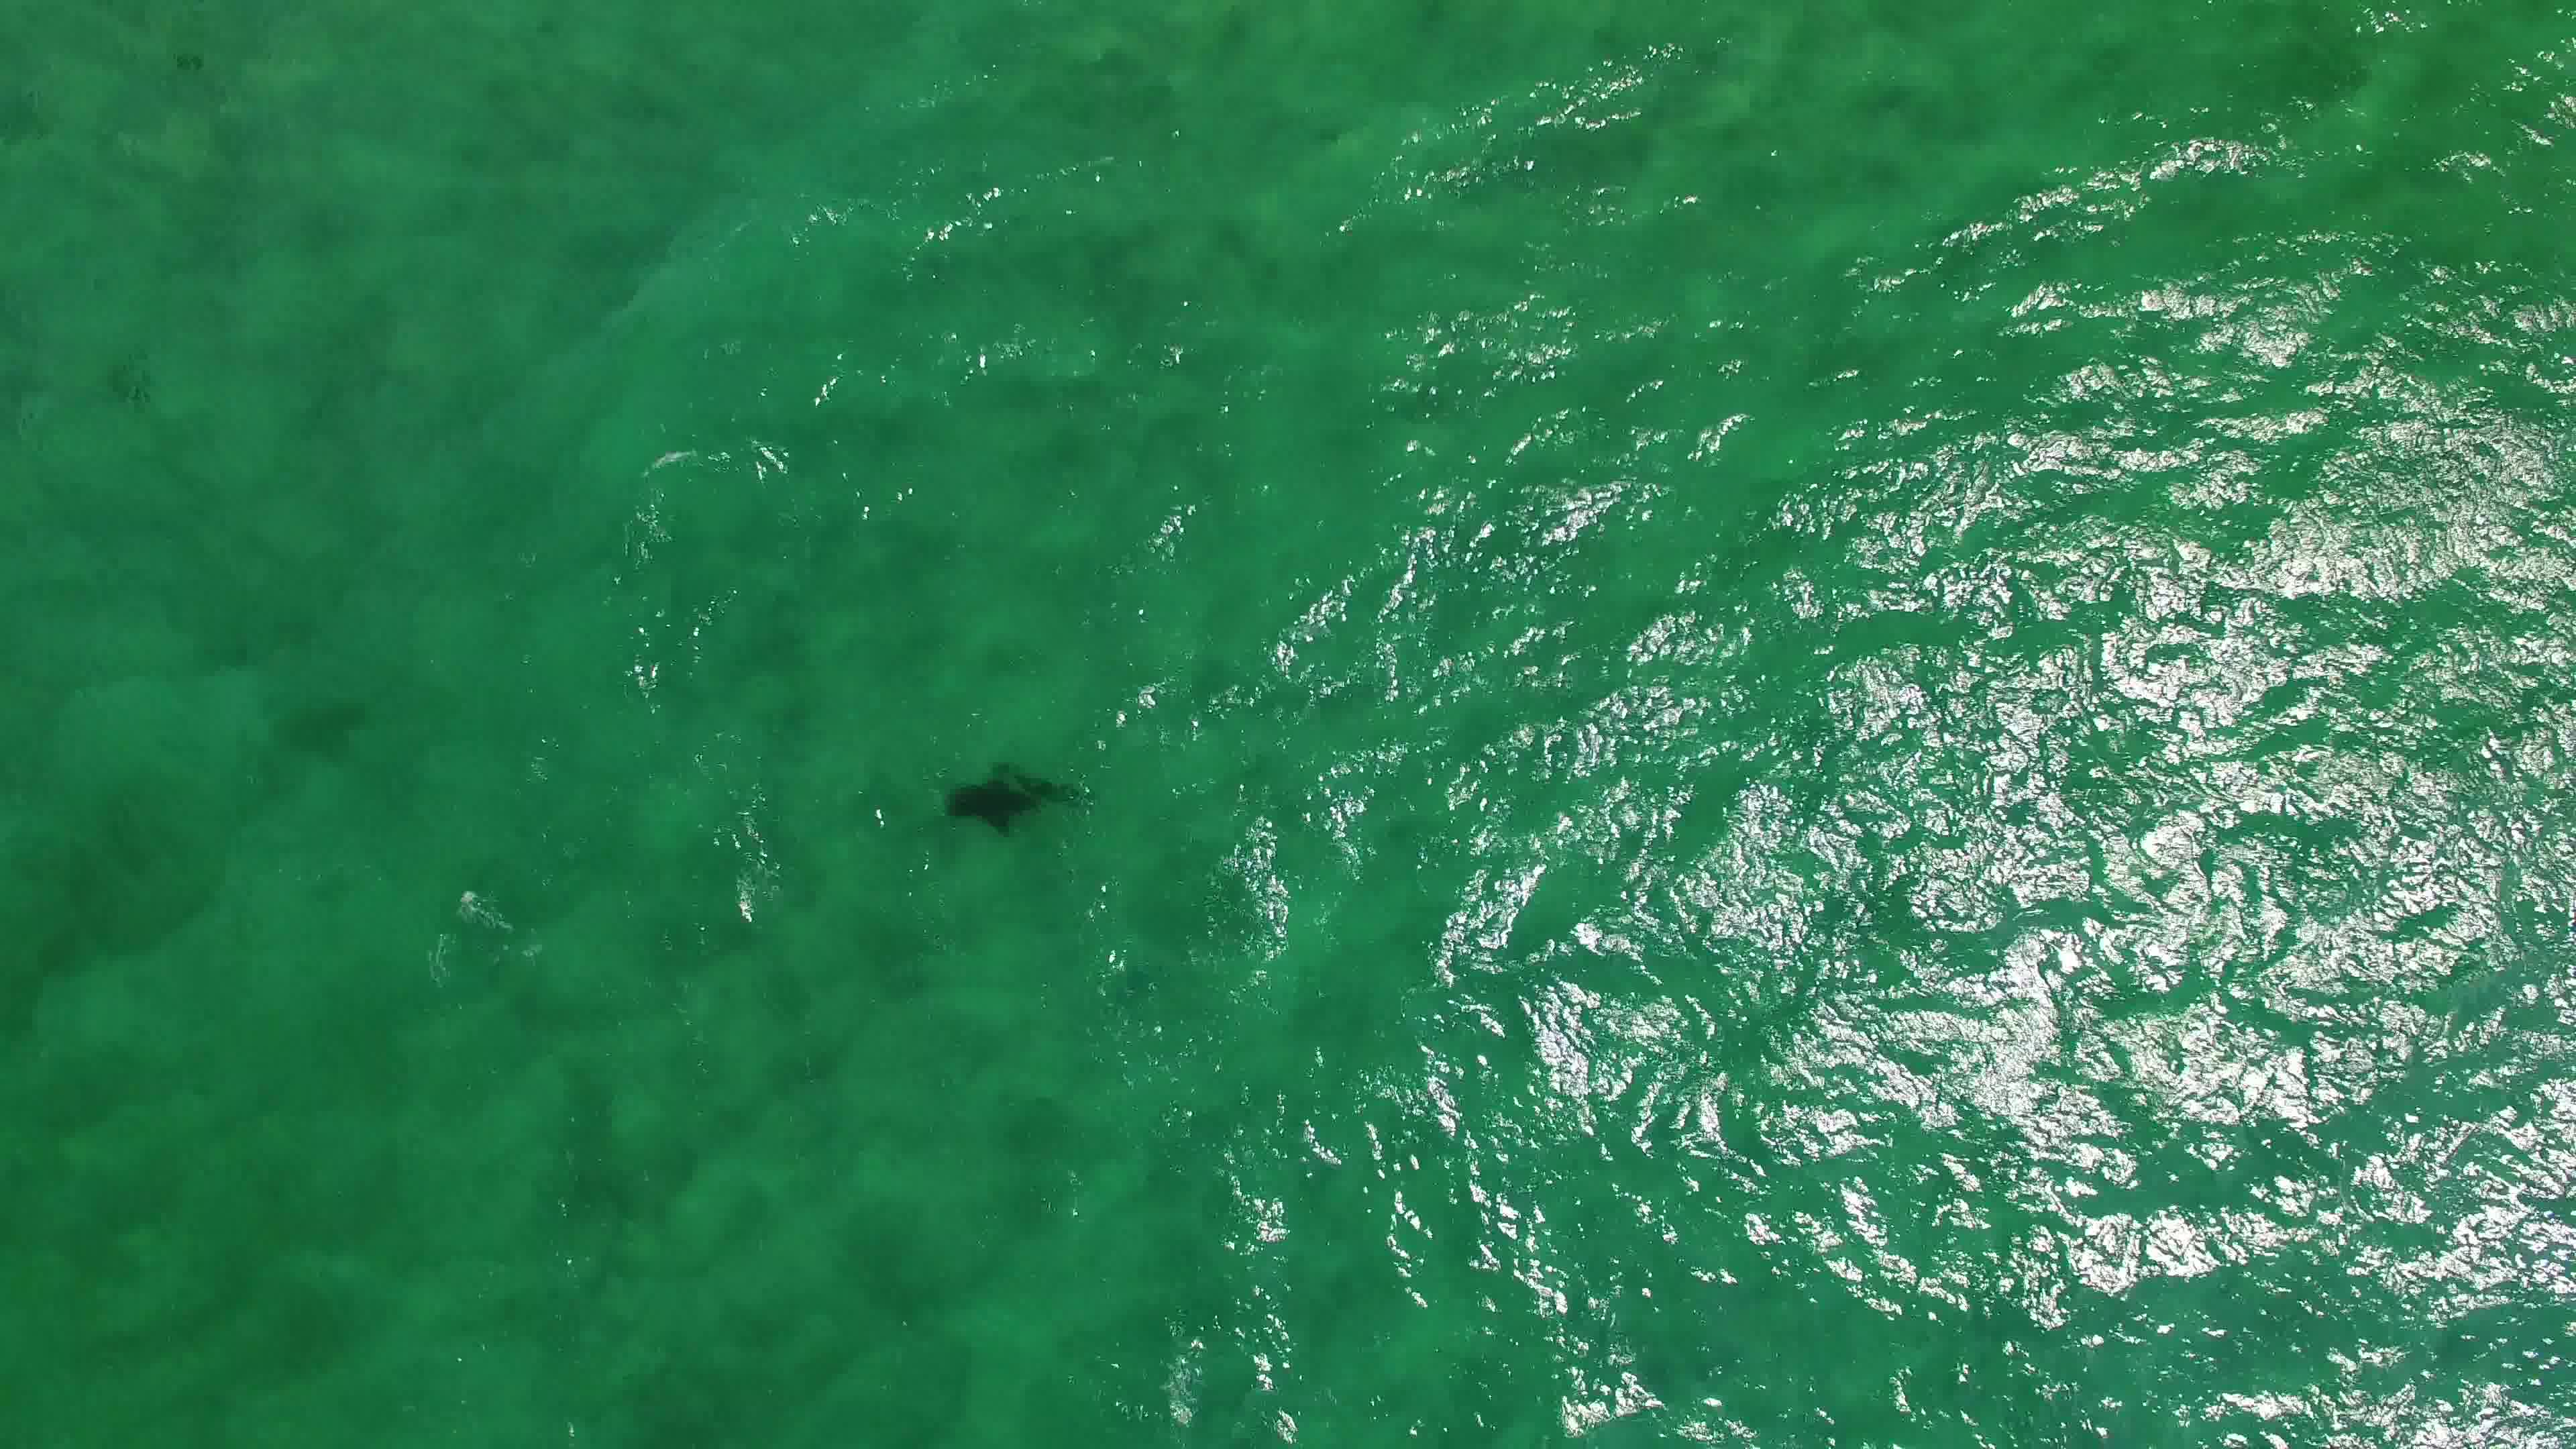shark: (931, 757, 1092, 840)
